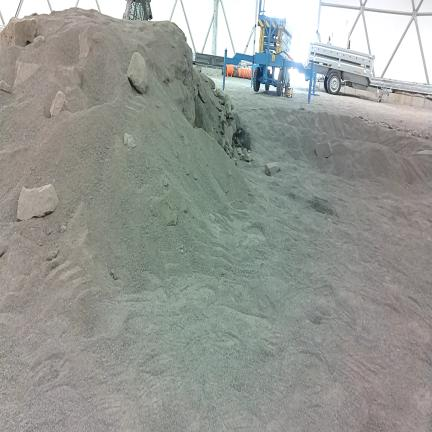Rock: (17, 184, 58, 220), (0, 18, 36, 49), (127, 52, 147, 93), (14, 62, 40, 86), (195, 97, 212, 133), (169, 80, 187, 106), (50, 91, 67, 116), (235, 128, 251, 149), (79, 29, 89, 59), (315, 142, 333, 158), (198, 83, 208, 103), (265, 162, 280, 175), (203, 75, 215, 89), (225, 124, 233, 145), (124, 133, 135, 148), (234, 113, 244, 129), (33, 35, 45, 47), (0, 81, 12, 93), (215, 89, 225, 103), (47, 249, 59, 260), (93, 32, 106, 42), (226, 95, 233, 112), (227, 118, 236, 131), (225, 101, 232, 116), (110, 269, 119, 280), (215, 100, 223, 112), (0, 244, 7, 257), (219, 111, 226, 124), (231, 149, 239, 160), (216, 133, 223, 145), (223, 117, 228, 133), (221, 113, 227, 126), (221, 106, 226, 120), (223, 137, 229, 148), (418, 150, 431, 155), (234, 136, 239, 146), (245, 154, 251, 162), (60, 225, 66, 233), (235, 148, 241, 156), (37, 239, 43, 246), (229, 145, 233, 155), (242, 148, 247, 156), (228, 111, 233, 119), (251, 161, 257, 167), (225, 145, 229, 154), (240, 154, 245, 160), (234, 159, 238, 165), (425, 135, 430, 139), (417, 133, 421, 137), (251, 157, 255, 161), (300, 107, 305, 110), (247, 150, 251, 153), (412, 132, 415, 136)
